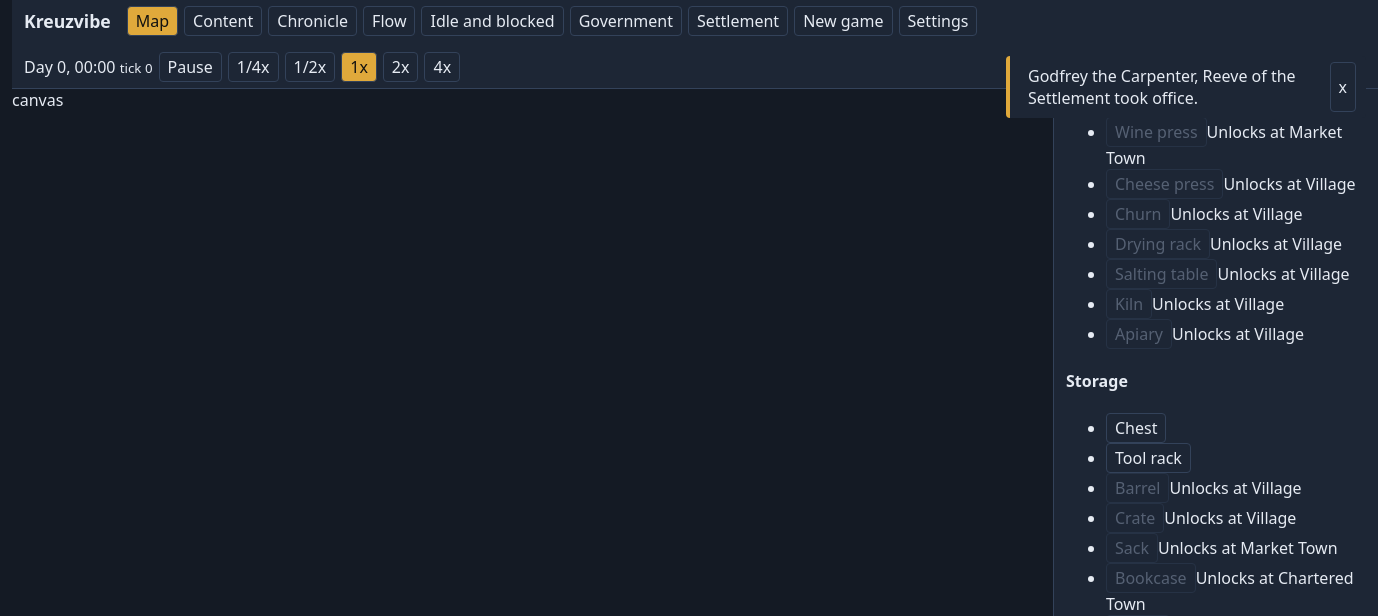
Test: BuildMenuPanel › cancels the tool
(page scrolled)
Click the button "Chest" at [1136, 428], box [1106, 413, 1166, 443]
(page scrolled)
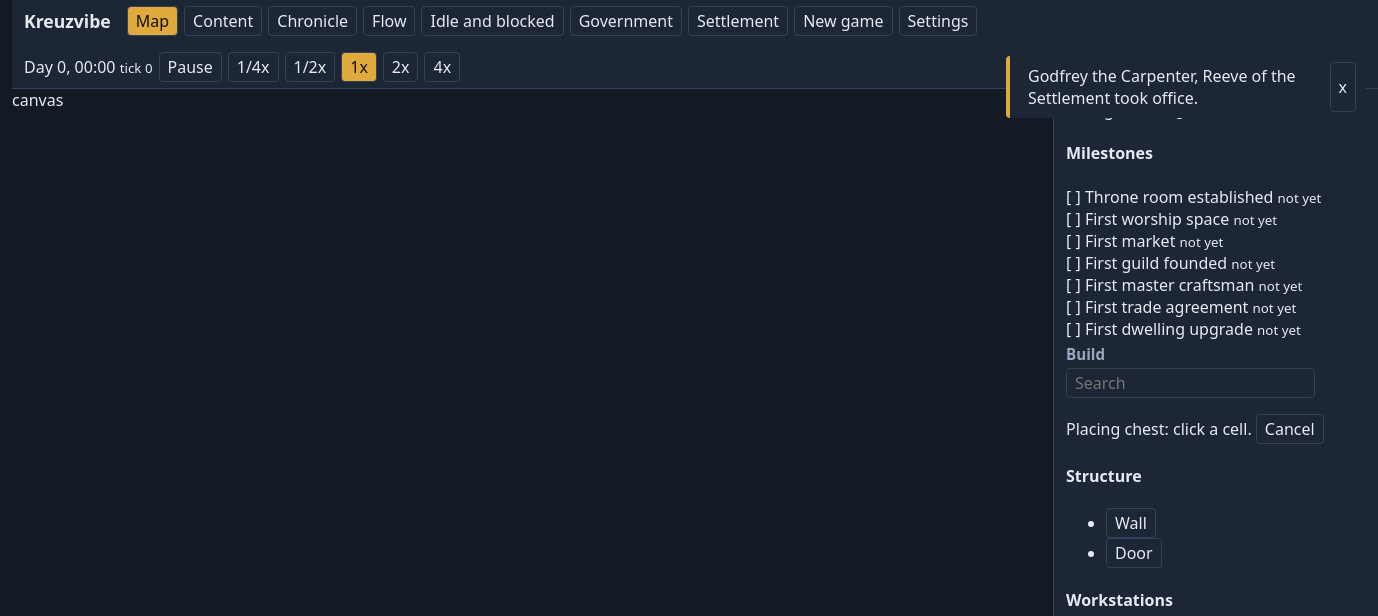
Click the button "Cancel" at [1290, 429], box [1256, 414, 1324, 444]
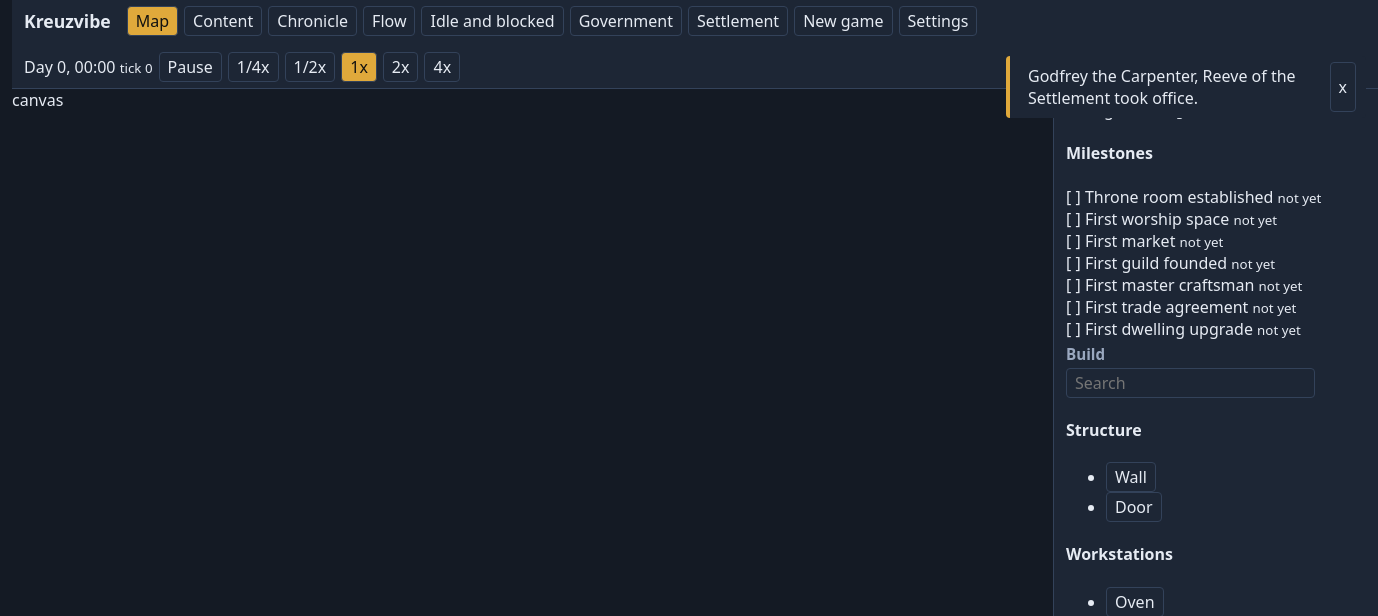
Check: the text "Placing" is gone
